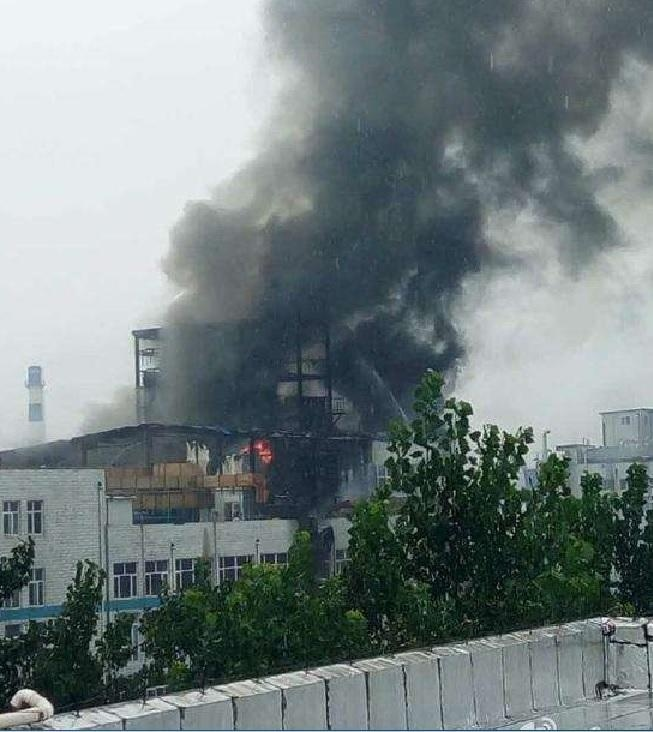fire: (246, 438, 273, 462)
